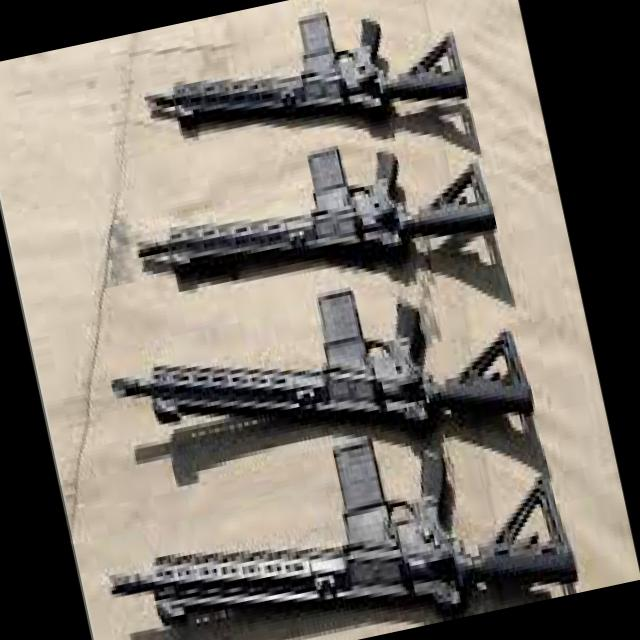long weapon: (105, 266, 543, 490), (95, 445, 587, 639), (123, 124, 522, 312), (135, 0, 475, 154)
